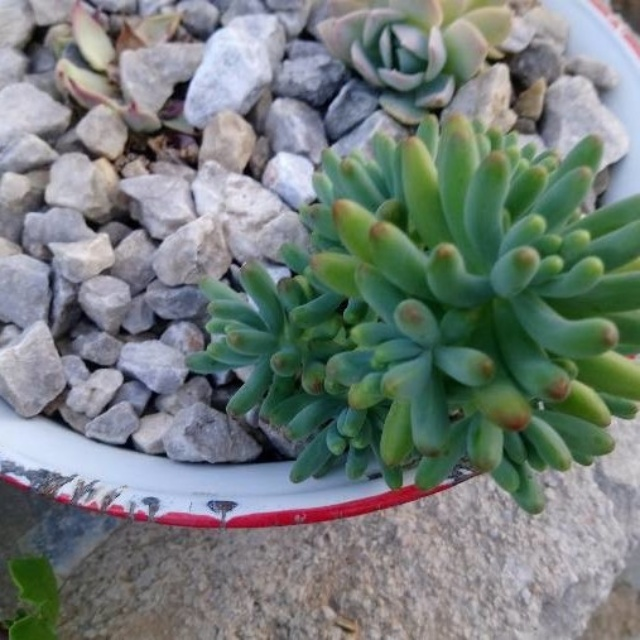obstacle: (241, 96, 613, 516)
